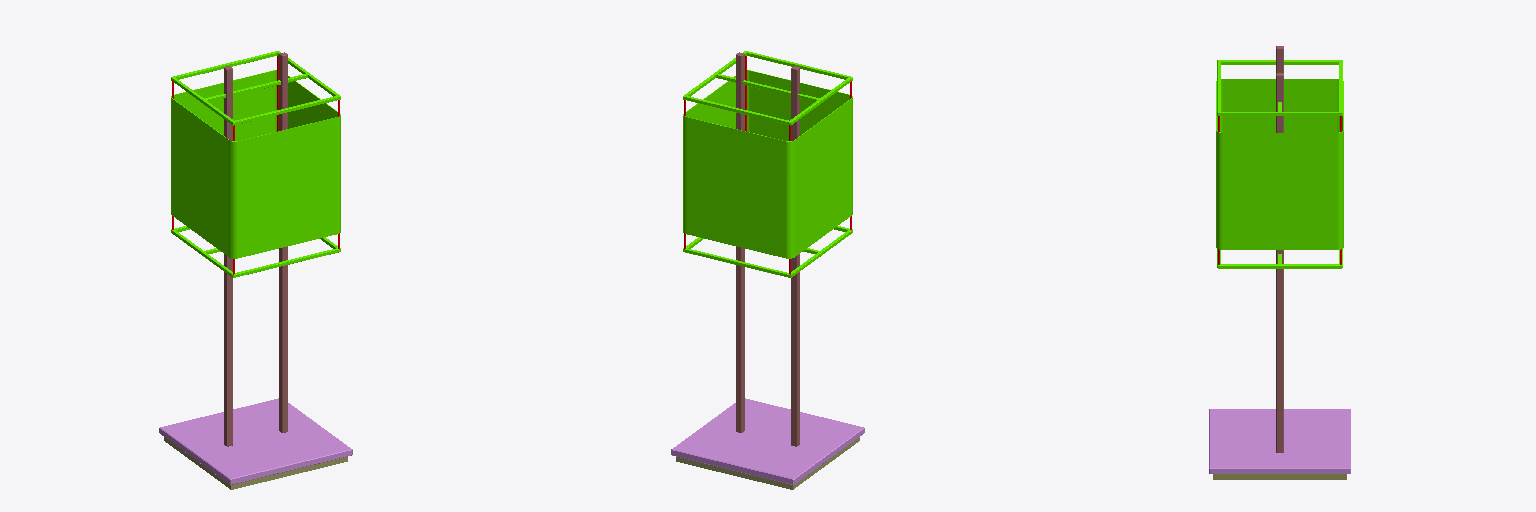
Rendered from taideng.obj.
3 renders of one model, left to right at view 1: azimuth 30°, elevation 25°; view 2: azimuth 150°, elevation 25°; view 3: azimuth 270°, elevation 25°, orthographic.
Visible parts, largest first — view 1: lamp_obj_37, lamp_obj_34, lamp_obj_38, lamp_obj_36, lamp_obj_35, lamp_obj_33; view 2: lamp_obj_37, lamp_obj_34, lamp_obj_38, lamp_obj_36, lamp_obj_35, lamp_obj_33; view 3: lamp_obj_37, lamp_obj_34, lamp_obj_38, lamp_obj_36, lamp_obj_33.
Part boxes in pixels (left/top/right/bottom): lamp_obj_37: left=171, top=70, right=340, bottom=258; lamp_obj_34: left=159, top=398, right=352, bottom=484; lamp_obj_38: left=171, top=51, right=340, bottom=277; lamp_obj_36: left=279, top=52, right=287, bottom=432; lamp_obj_35: left=224, top=66, right=232, bottom=446; lamp_obj_33: left=164, top=437, right=347, bottom=489; lamp_obj_37: left=683, top=70, right=852, bottom=258; lamp_obj_34: left=671, top=398, right=864, bottom=484; lamp_obj_38: left=683, top=51, right=852, bottom=277; lamp_obj_36: left=736, top=52, right=744, bottom=432; lamp_obj_35: left=791, top=66, right=799, bottom=446; lamp_obj_33: left=676, top=437, right=859, bottom=489; lamp_obj_37: left=1216, top=79, right=1343, bottom=249; lamp_obj_34: left=1209, top=409, right=1350, bottom=473; lamp_obj_38: left=1217, top=60, right=1342, bottom=268; lamp_obj_36: left=1276, top=73, right=1283, bottom=452; lamp_obj_33: left=1213, top=474, right=1346, bottom=479.
Bounding box in the file's own units: 7.87 × 23.87 × 7.87.